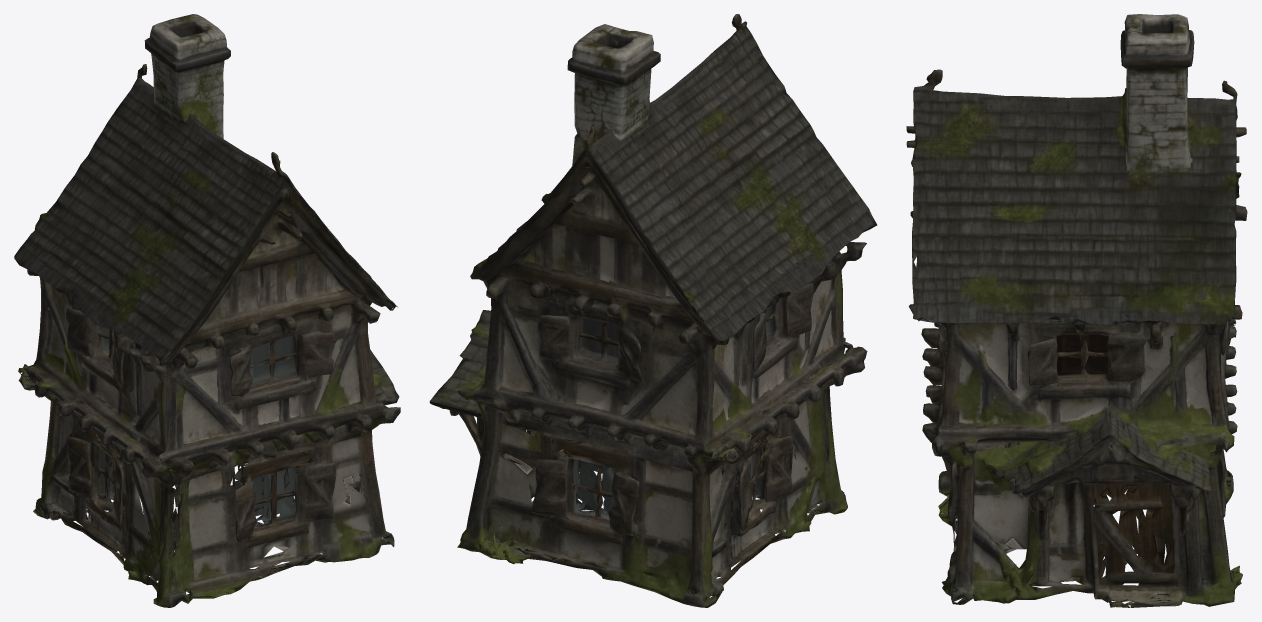
Rendered from prop_house_narrow.glb.
The picture shows the model from 3 angles, left to right: view 1: azimuth 30°, elevation 25°; view 2: azimuth 150°, elevation 25°; view 3: azimuth 270°, elevation 25°; orthographic projection. The views are drawn at different scales.
Bounding box in the file's own units: 0.6383 × 0.9914 × 0.5886.
Materials: 1 (1 with a texture image).
